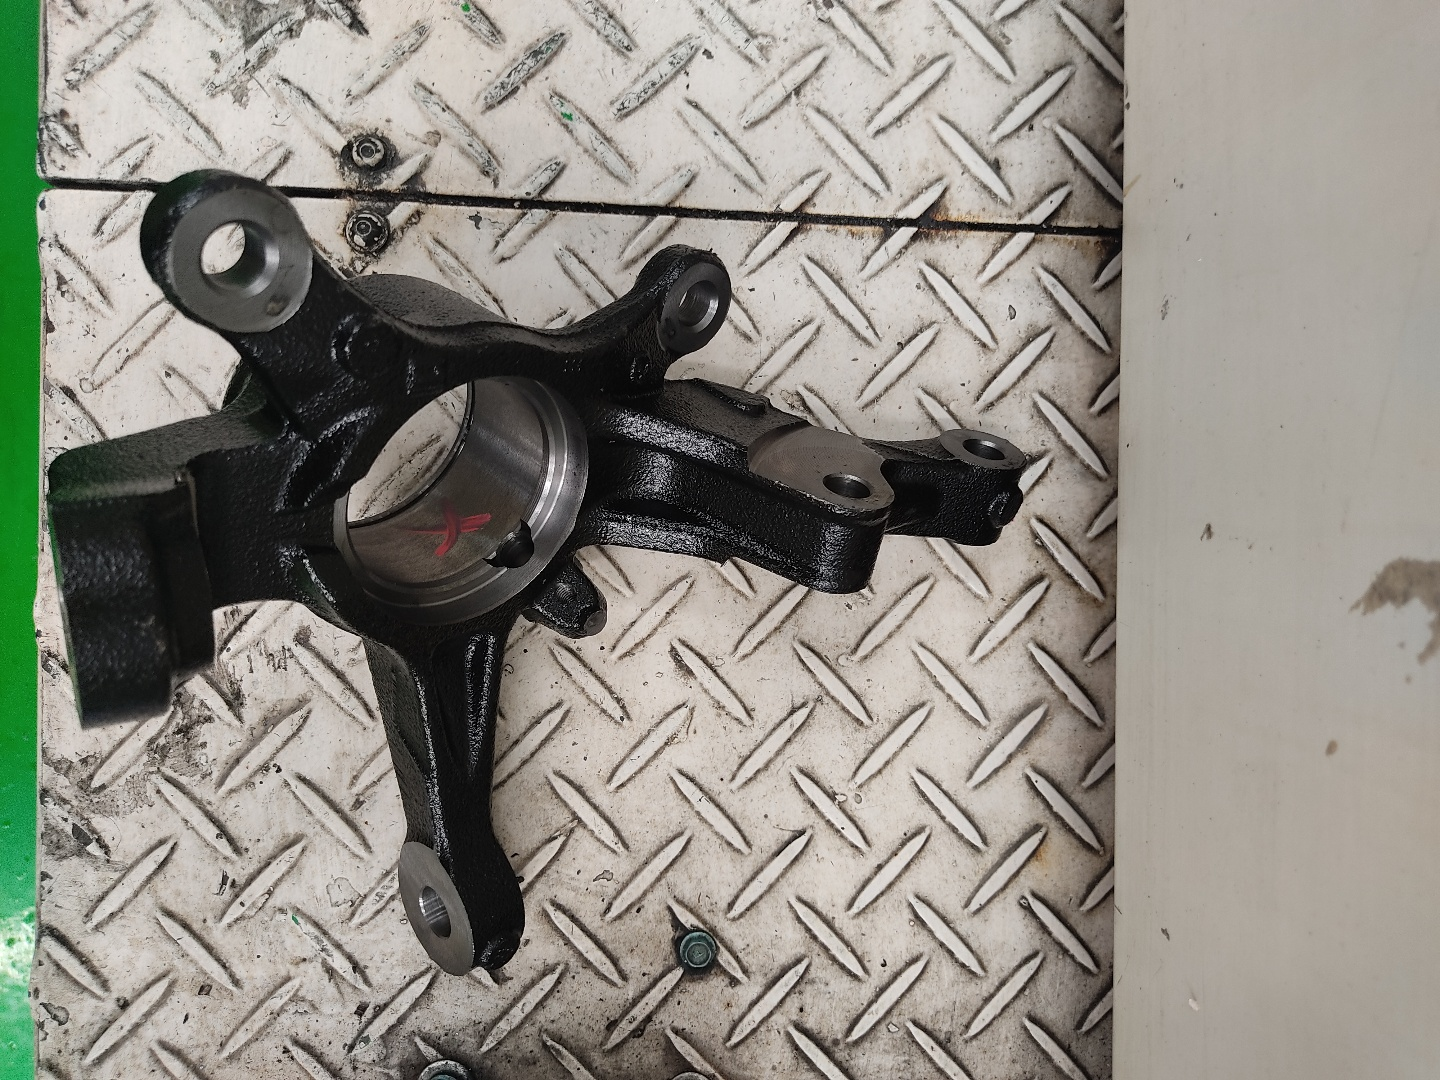abs-rh: (31, 160, 1037, 989)
